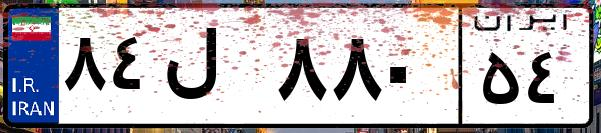0: (385, 28, 445, 110)
4: (525, 38, 570, 115), (110, 28, 158, 98)
5: (475, 38, 525, 113)
8: (270, 28, 330, 110), (330, 28, 385, 110), (57, 26, 110, 100)
ل: (158, 20, 270, 120)
